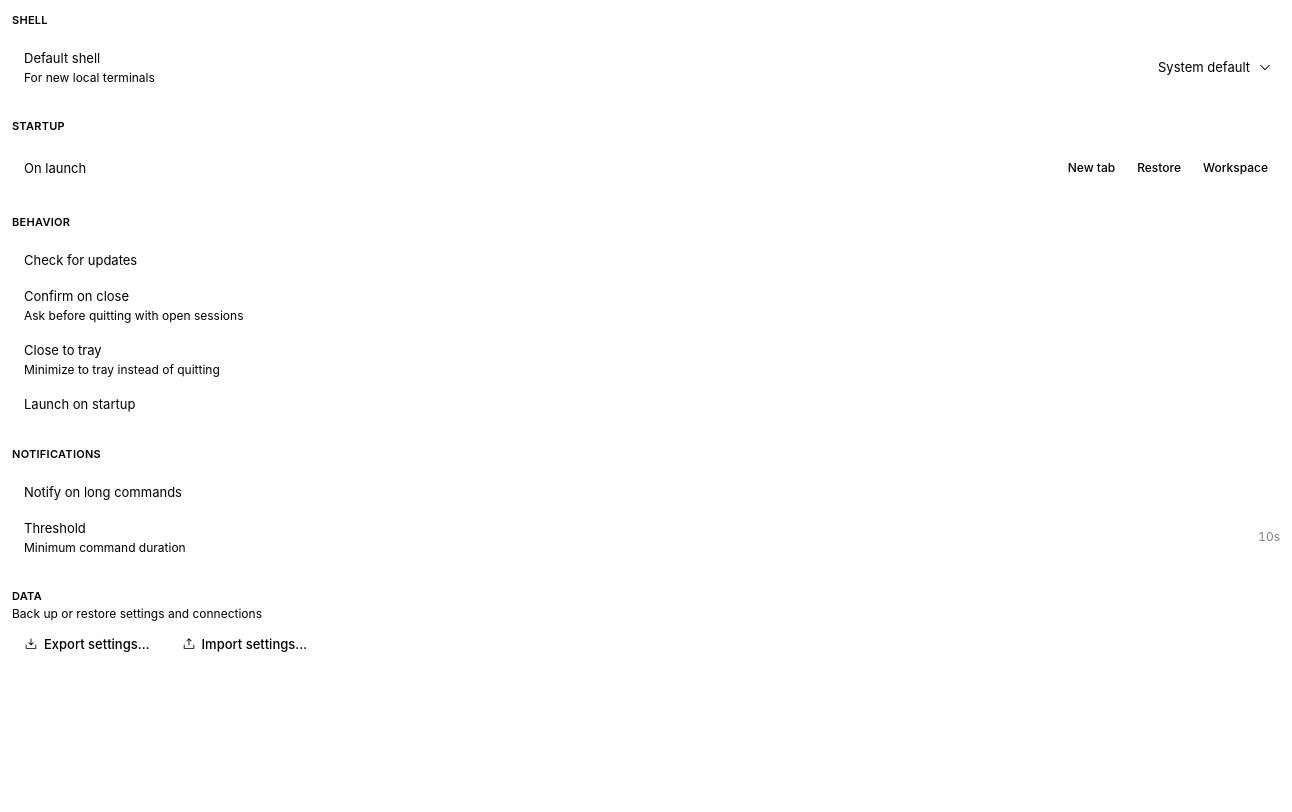
Test: GeneralPanel › shows the workspace picker only for the workspace startup mode
Click the radio button labelled "Workspace": (1236,168) x1=1193 y1=156 x2=1278 y2=180
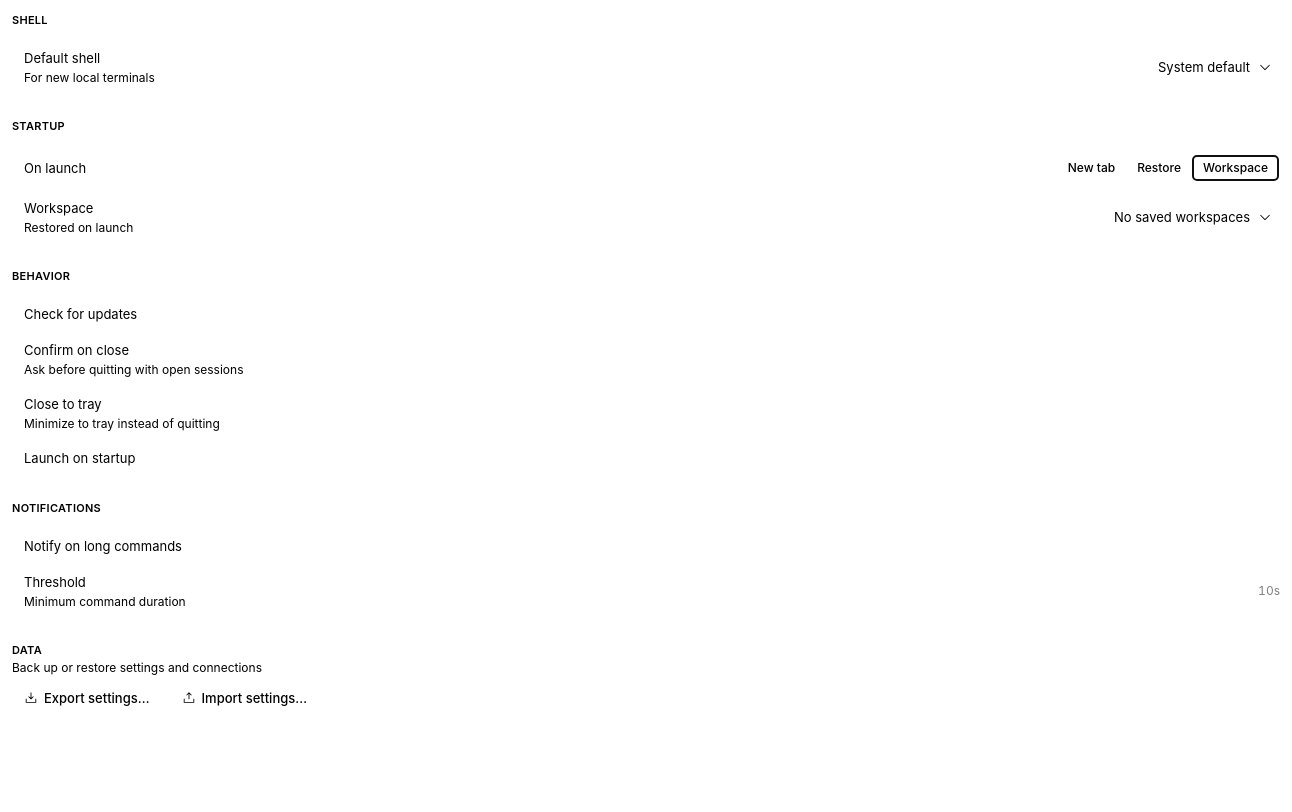
expect the dropdown labelled "workspace" reads "No saved workspaces": met, box x1=1106 y1=207 x2=1280 y2=227
